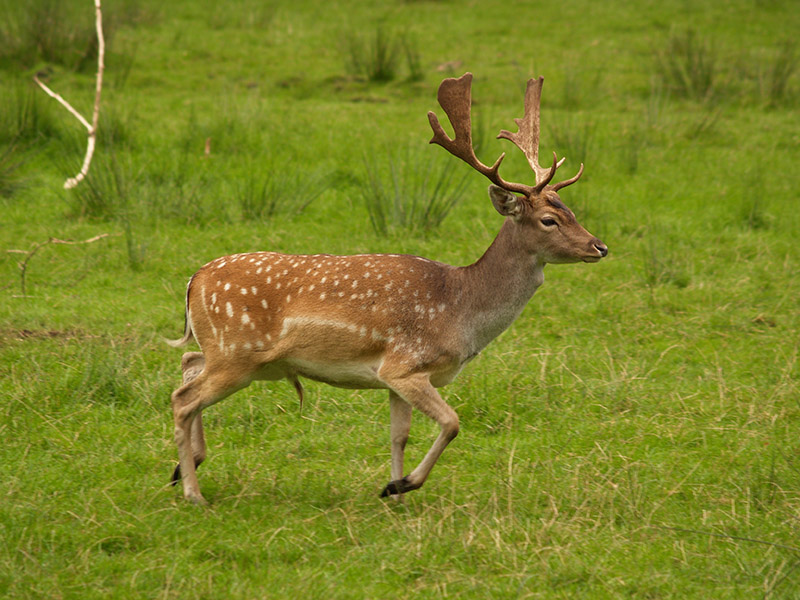cervo: (154, 64, 613, 503)
